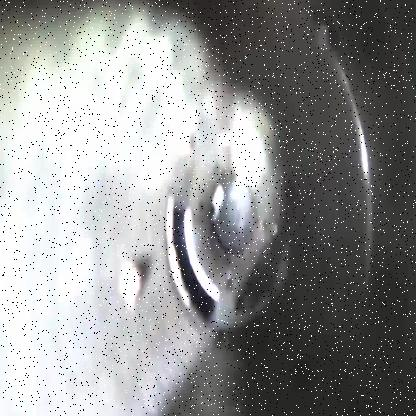Crack2: (166, 197, 221, 331)
